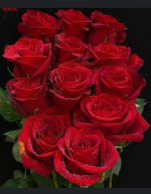RedRose: (53, 128, 131, 187), (20, 111, 68, 172), (48, 60, 93, 107), (5, 33, 52, 75)
